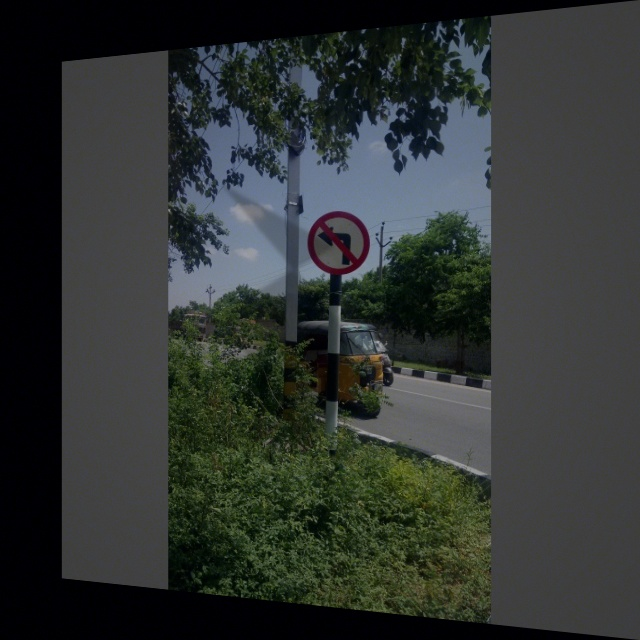Left_Turn_Prohibited: (305, 208, 373, 278)
